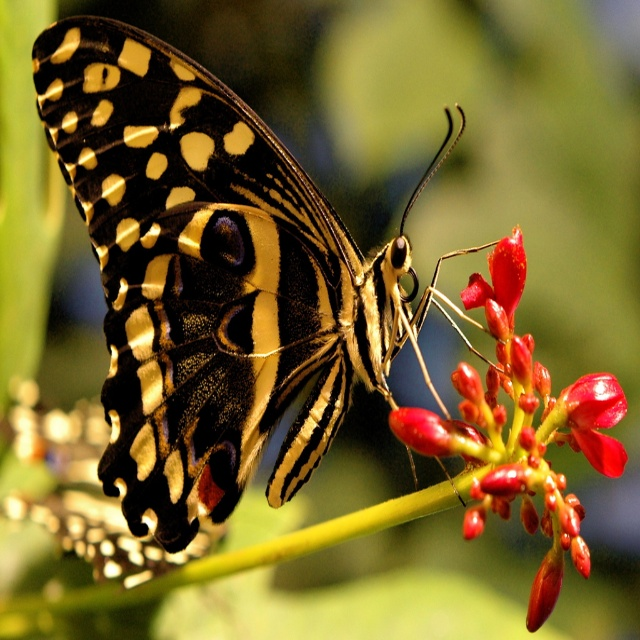Butterfly: (28, 13, 503, 582)
